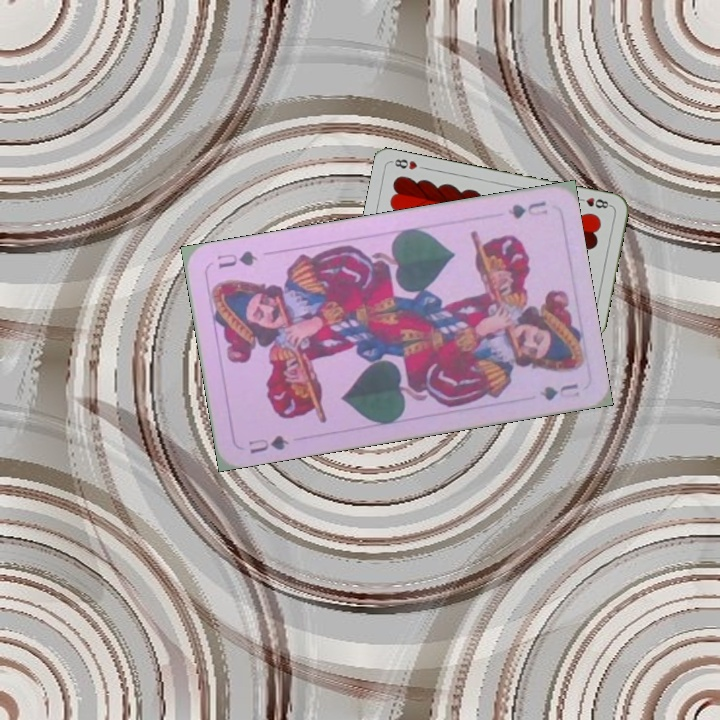GU: (245, 431, 292, 457), (504, 197, 551, 221)
H8: (573, 193, 613, 211)
